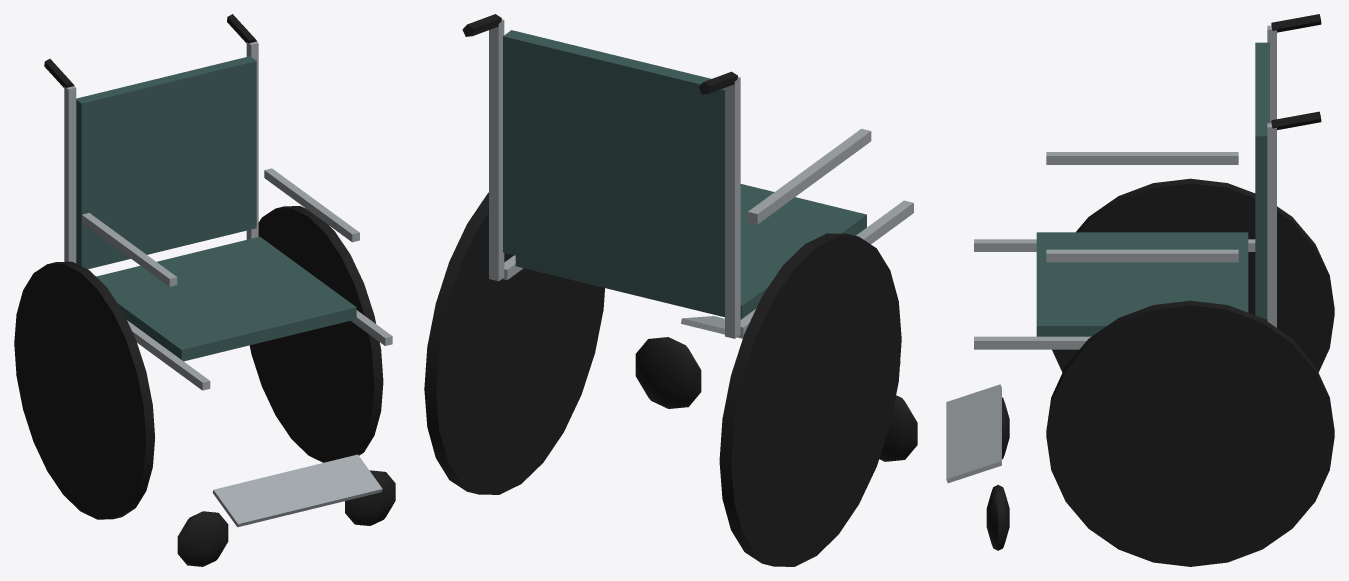
The model's file is wheelchair.glb.
3 views of the same model, side by side, from view 1: azimuth 30°, elevation 25°; view 2: azimuth 150°, elevation 25°; view 3: azimuth 270°, elevation 25° (orthographic). The views are drawn at different scales.
Visible parts, largest first — view 1: Wheelchair; view 2: Wheelchair; view 3: Wheelchair.
Part boxes in pixels (x1,y1,x2,y2): Wheelchair: [14, 14, 395, 566]; Wheelchair: [424, 14, 917, 566]; Wheelchair: [946, 14, 1334, 566].
Bounding box in the file's own units: 0.624 × 1.01 × 0.8081.
